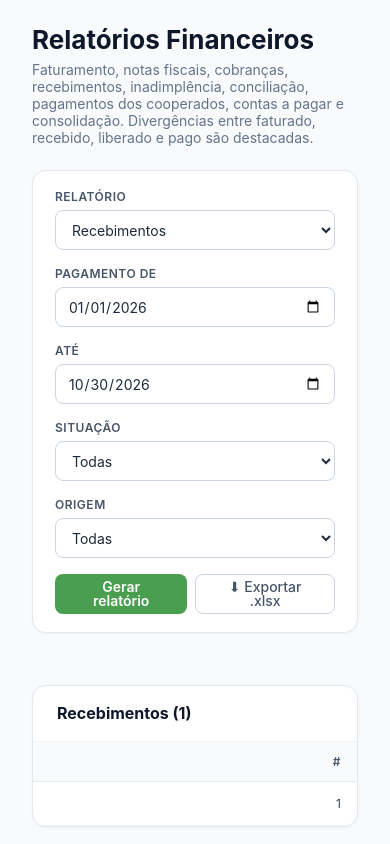
Test: Relatórios Financeiros › mostra o erro do servidor e não mantém o resultado anterior
The width and height of the screenshot is (390, 844).
Check: the heading "Recebimentos (1)" is shown, box [57,704,192,723]
Select "Ativo" in the dropdown below "Situação" at (195, 461), box [55,441,335,481]
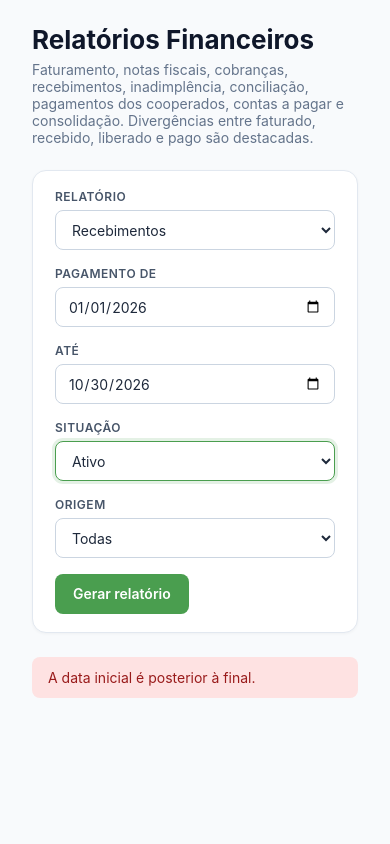
Check: the message "A data inicial é posterior à final." is shown, box [32,657,358,698]
Check: the heading "Recebimentos (1)" is gone
